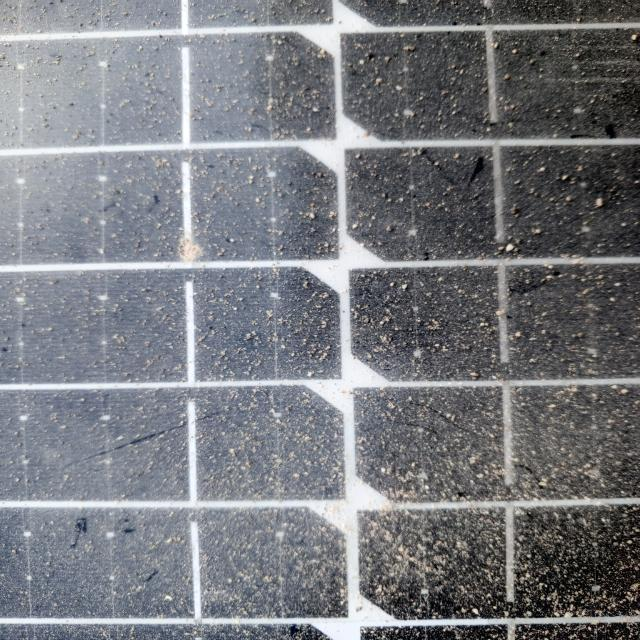Surface Contaminant: (25, 30, 636, 636)
